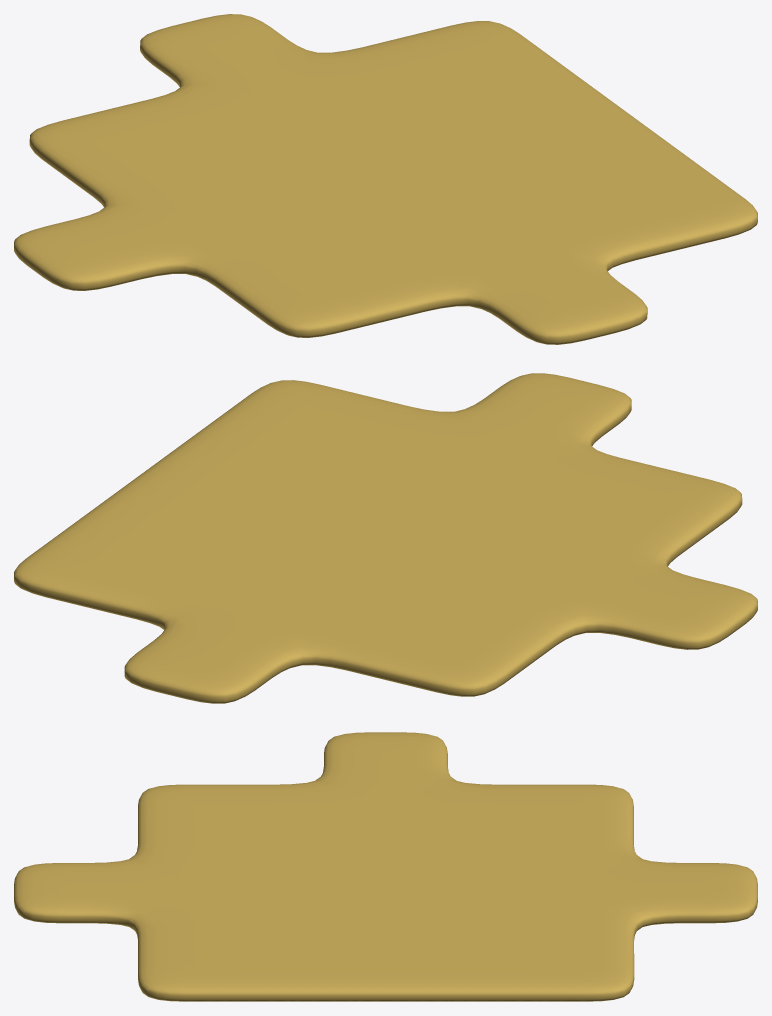
File: GoldenPuzzle-09-OMMM.fbx
The picture shows the model from 3 angles, top to bottom: view 1: azimuth 30°, elevation 25°; view 2: azimuth 150°, elevation 25°; view 3: azimuth 270°, elevation 25°; orthographic projection. The views are drawn at different scales.
Parts seen in each view (by area): view 1: Puzzle_009; view 2: Puzzle_009; view 3: Puzzle_009.
Part boxes in pixels (<box>): Puzzle_009: <box>14,14,757,344</box>; Puzzle_009: <box>14,373,757,703</box>; Puzzle_009: <box>14,732,757,1001</box>.
Size of the model in its own units: 0.3125 by 0.00924 by 0.3762.
